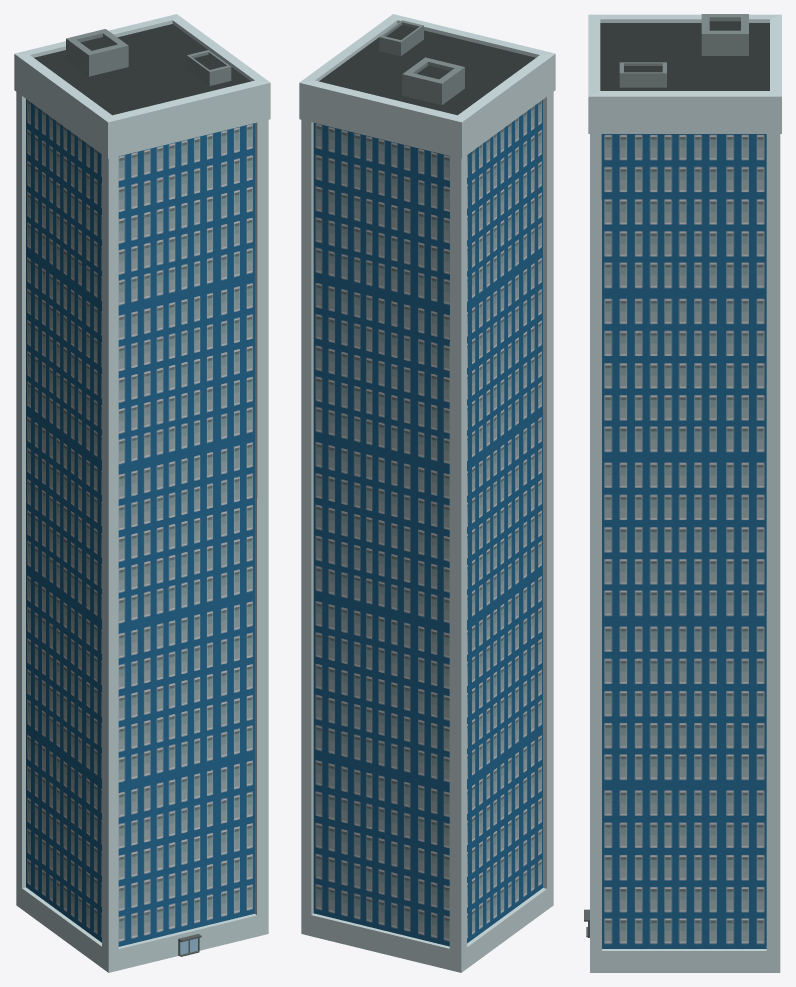
The model's file is High Tower Even Higher.fbx.
3 views of the same model, side by side, from view 1: azimuth 30°, elevation 25°; view 2: azimuth 150°, elevation 25°; view 3: azimuth 270°, elevation 25° (orthographic). The views are drawn at different scales.
Parts seen in each view (by area): view 1: High Tower Even Higher; view 2: High Tower Even Higher; view 3: High Tower Even Higher.
Part boxes in pixels (box(x1,y1,x2,y2)): High Tower Even Higher: box(14, 14, 270, 972); High Tower Even Higher: box(299, 14, 555, 972); High Tower Even Higher: box(584, 14, 781, 972).
Bounding box in the file's own units: 8.56 × 43.72 × 8.75.
